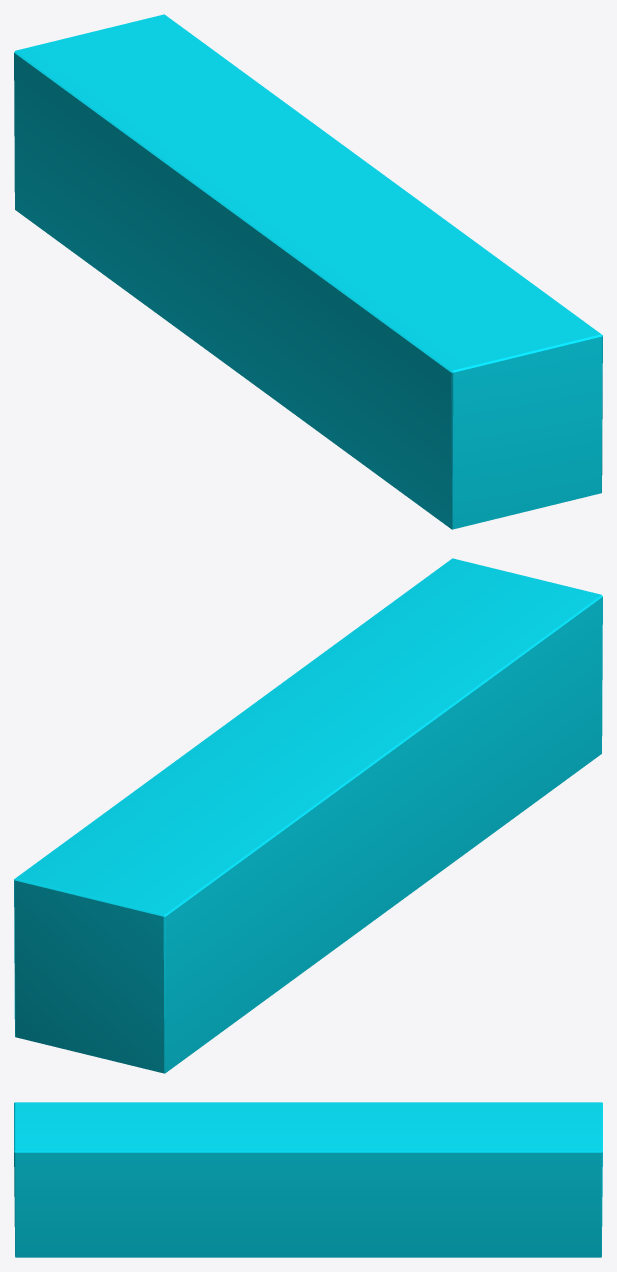
The model's file is blueBlock_edit.fbx.
3 renders of one model, top to bottom at view 1: azimuth 30°, elevation 25°; view 2: azimuth 150°, elevation 25°; view 3: azimuth 270°, elevation 25°, orthographic. The views are drawn at different scales.
Visible parts, largest first — view 1: Blue_Block; view 2: Blue_Block; view 3: Blue_Block.
Part boxes in pixels (x1,y1,x2,y2): Blue_Block: (14, 14, 602, 529); Blue_Block: (14, 558, 602, 1073); Blue_Block: (14, 1102, 602, 1257).
Size of the model in its own units: 100 by 100 by 500.
